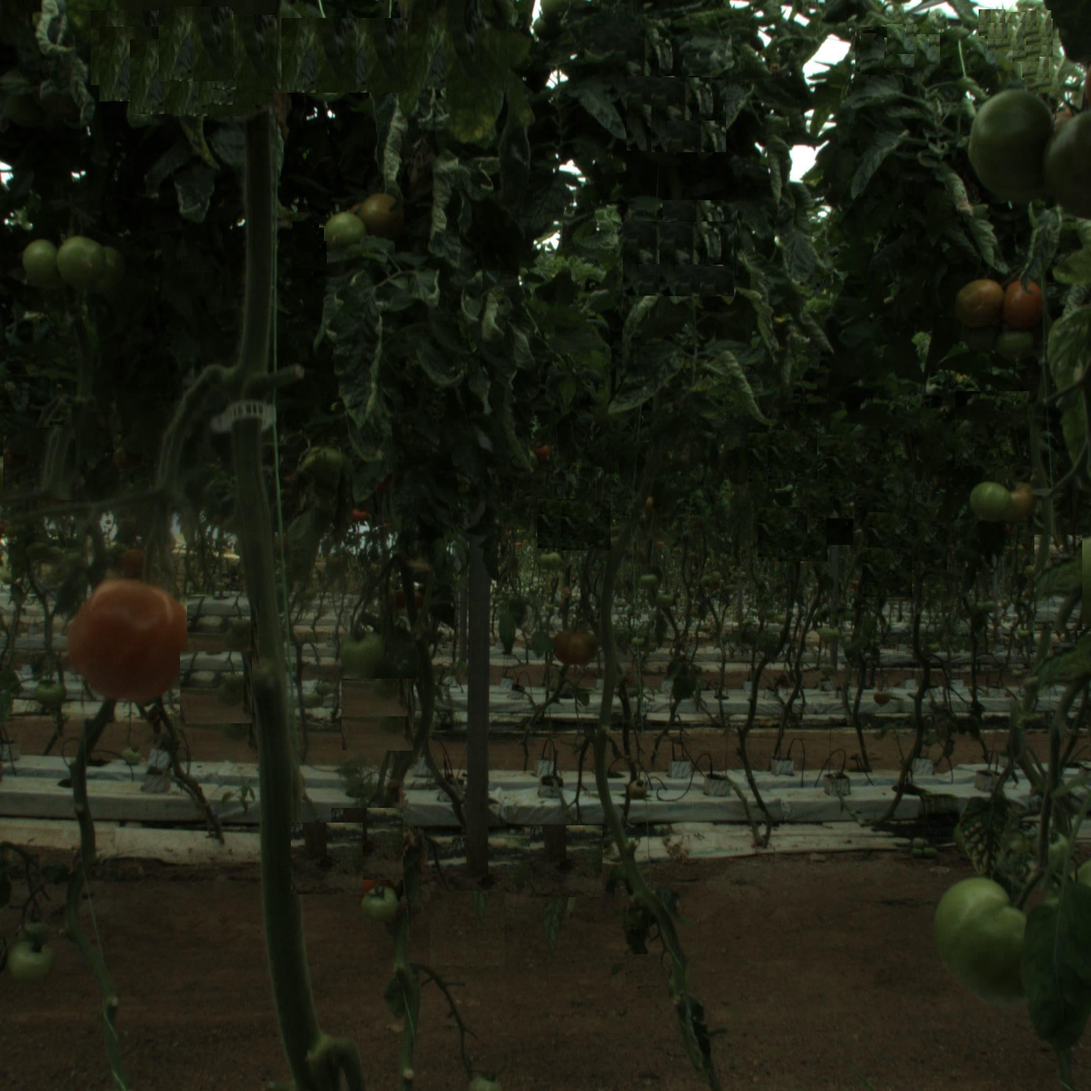fully-ripe: (71, 583, 183, 695)
semi-ripe: (952, 276, 1006, 331), (997, 279, 1045, 327), (356, 191, 404, 239), (552, 622, 597, 667), (998, 479, 1038, 520)
unripe: (930, 878, 1042, 991), (967, 92, 1075, 200), (59, 234, 114, 289), (322, 210, 367, 255), (969, 481, 1014, 525), (7, 936, 51, 981), (339, 625, 383, 669), (24, 241, 59, 275), (367, 886, 401, 921)
